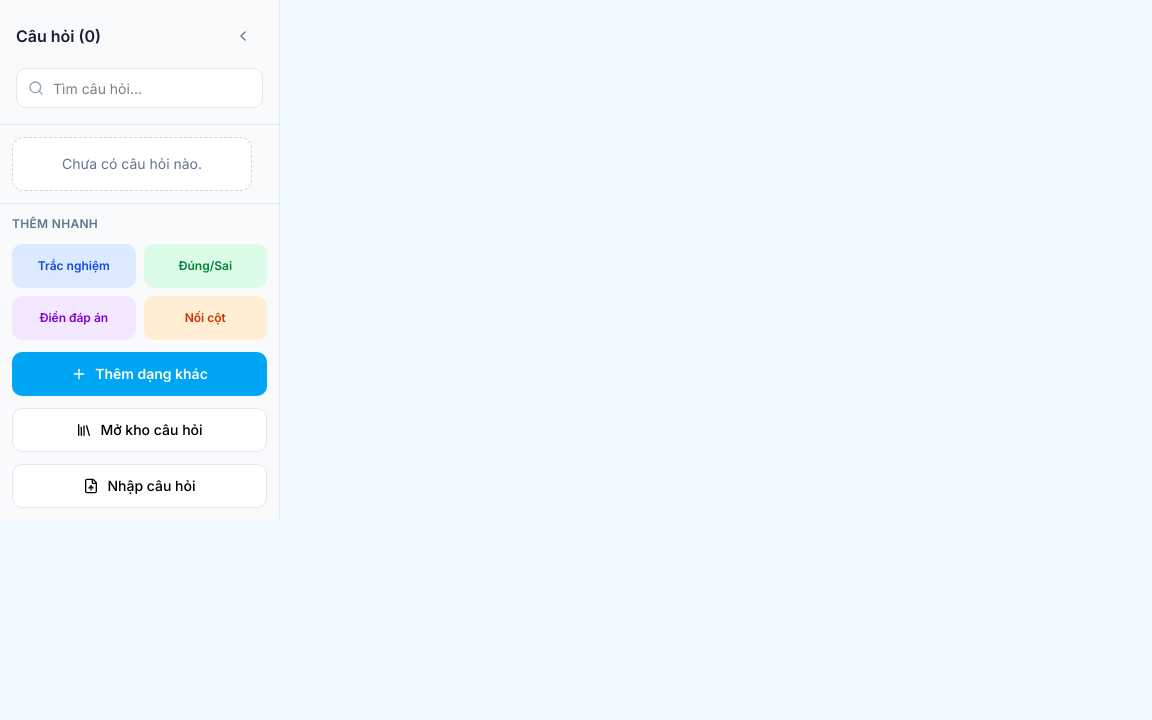
QuestionTypePicker › opens grouped picker for other types and closes after selection
What coordinates should you click on to do the following:
click the button "Thêm dạng khác"
I would click on:
 (140, 374)
Its box is [12,352,267,396].
(page scrolled)
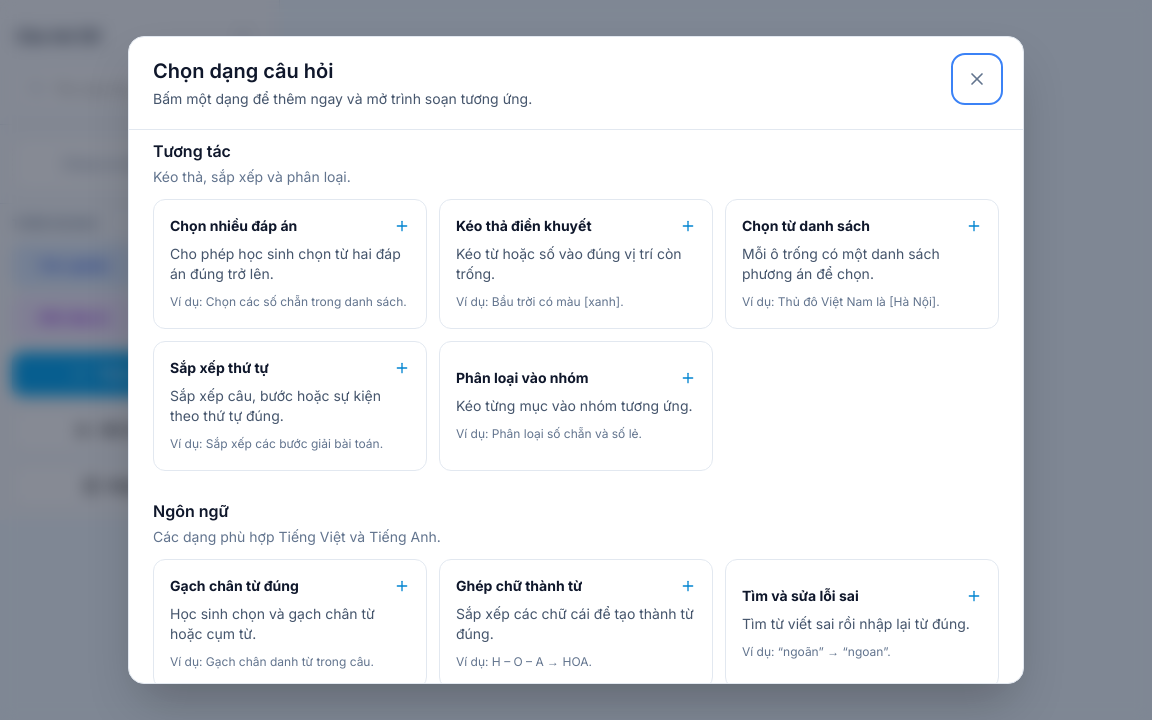
What coordinates should you click on to do the following:
click the button with aria-label "Thêm dạng Phân loại vào nhóm"
I would click on:
 (576, 406)
Its box is [439,341,713,471].
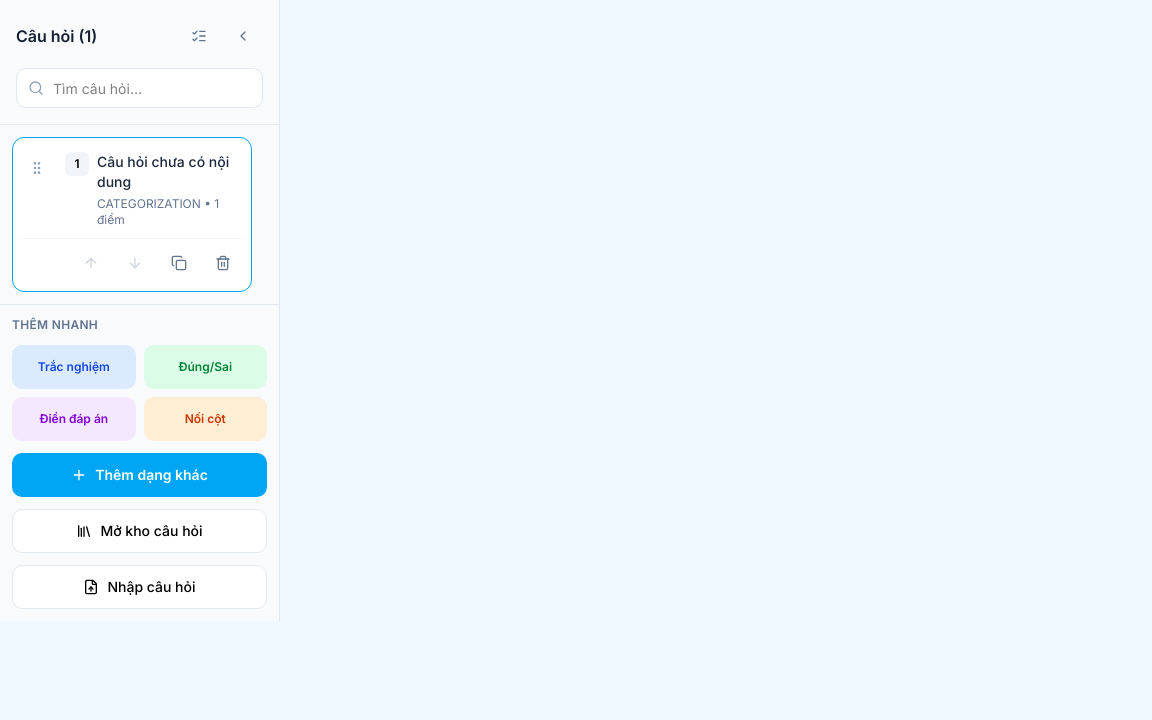
Check: the heading "Chọn dạng câu hỏi" is gone
